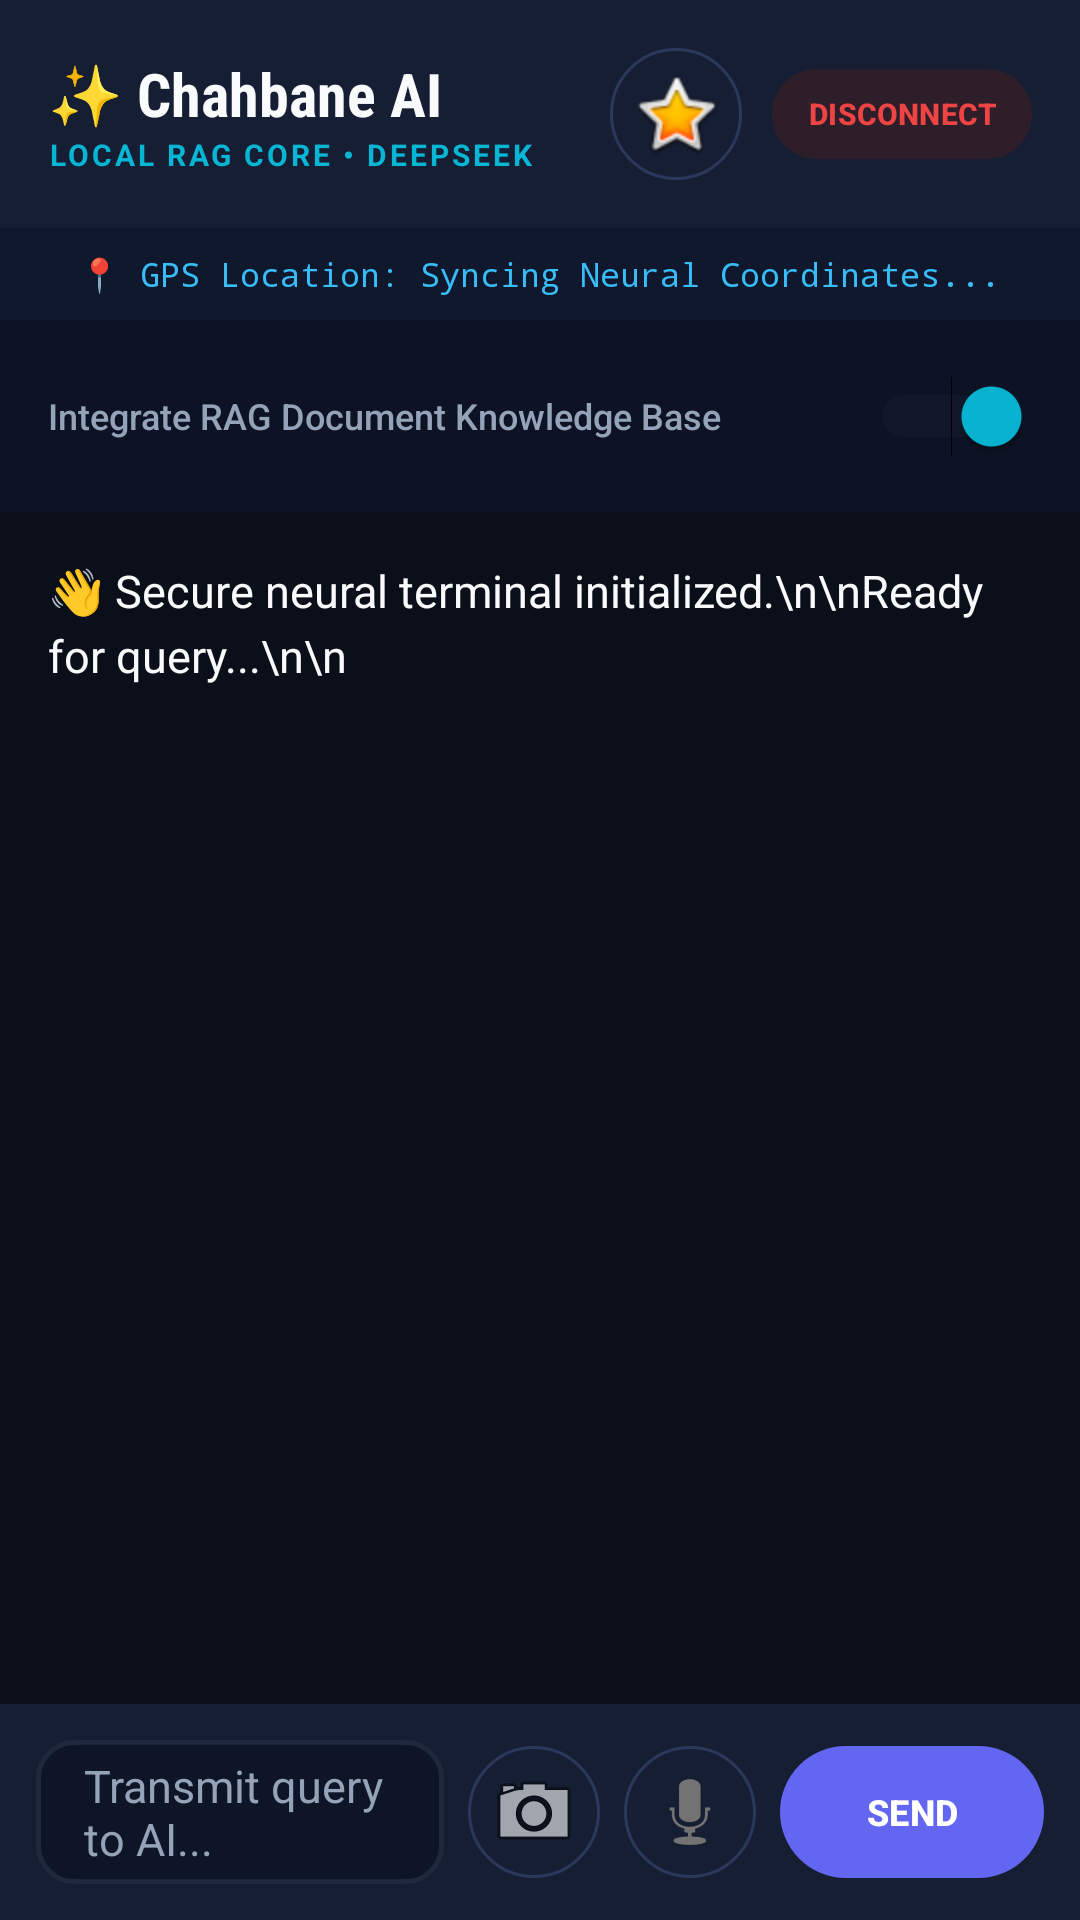

Where icons sit on this 1080w x 1920h app screen, as (x1, y1, x2, y2):
Camera OCR Scanner: (468, 1746, 600, 1878)
Voice Input: (624, 1746, 756, 1878)
